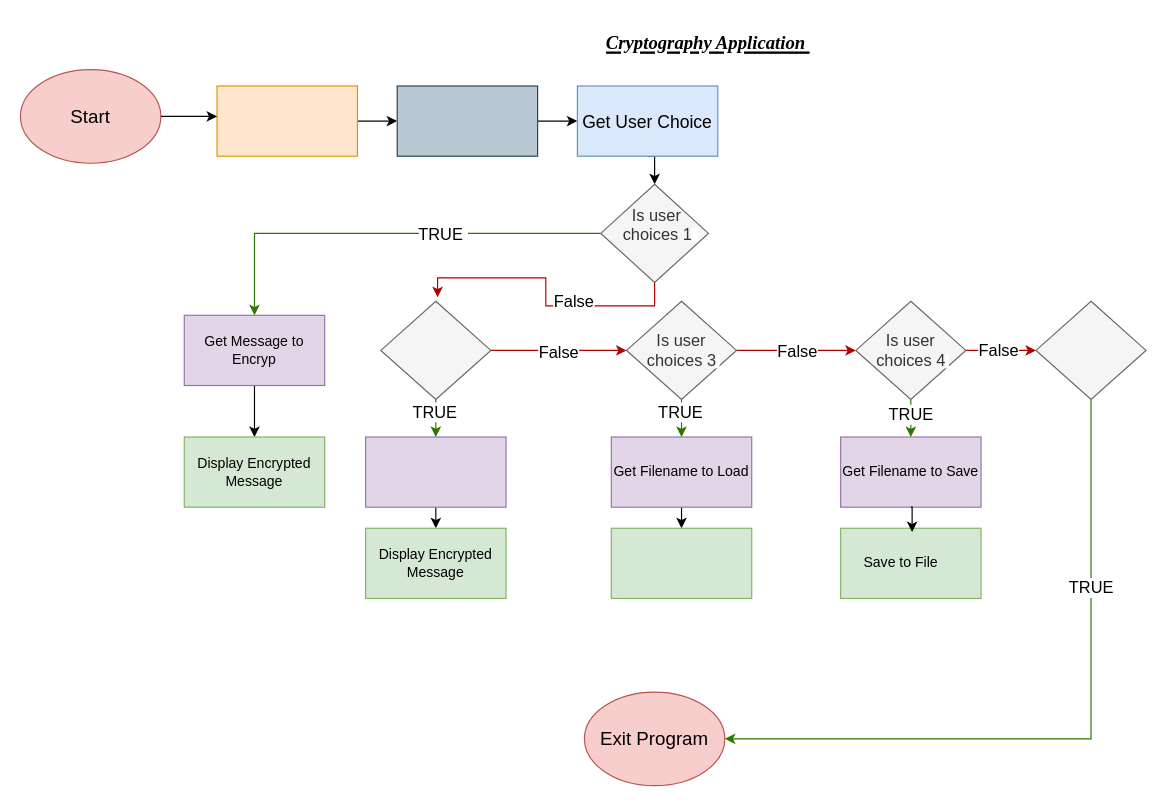
Some shapes in this 1166 by 806 pixel diagram are drawn without their labels. The shapes that lost their labels are listed below. From the top down, each one's centre as x and y in pixels, then its label:
point 286,120: userInteraction()
point 467,120: Display Menu Options
point 435,350: Is user choices 2
point 1090,350: Is user choices 5
point 435,471: Display Decrypted Message
point 681,562: Display Loaded Message
